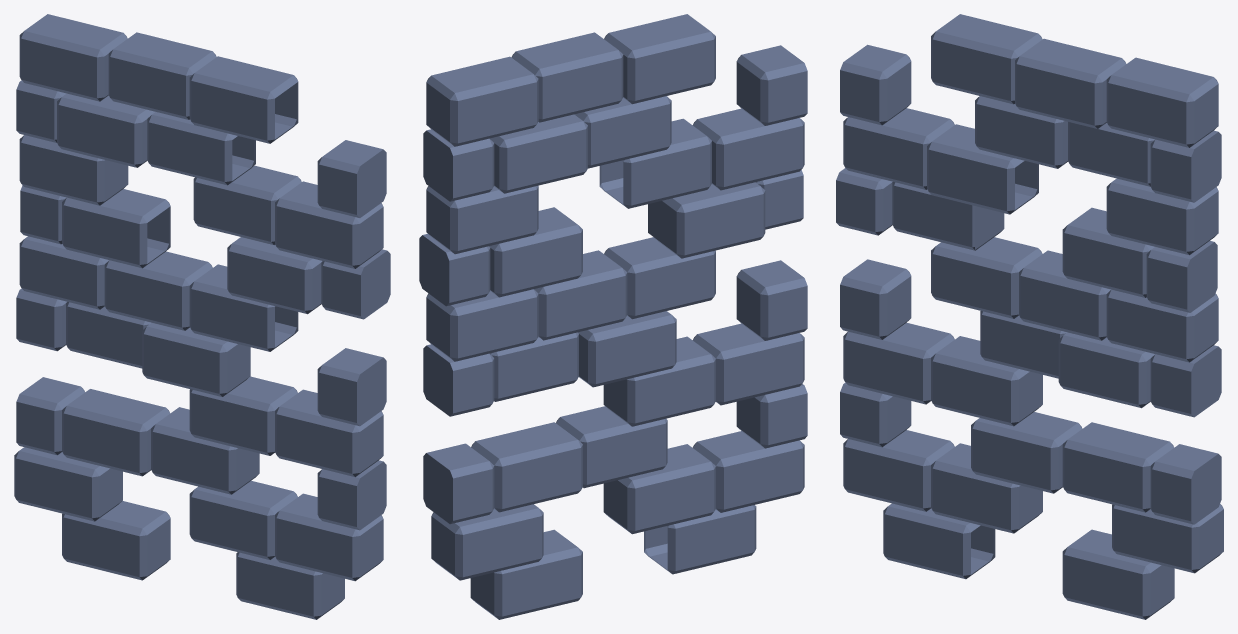
The model's file is n2_brick_wall_lev2.glb.
3 renders of one model, left to right at view 1: azimuth 90°, elevation 25°; view 2: azimuth 150°, elevation 25°; view 3: azimuth 270°, elevation 25°, orthographic. The views are drawn at different scales.
Parts seen in each view (by area): view 1: n2_brick_wall_lev2; view 2: n2_brick_wall_lev2; view 3: n2_brick_wall_lev2.
Boxes of the visible parts, x1,y1,x2,y2 form: n2_brick_wall_lev2: [14, 14, 390, 619]; n2_brick_wall_lev2: [419, 14, 807, 619]; n2_brick_wall_lev2: [836, 14, 1223, 619].
Size of the model in its own units: 1.37 by 3.06 by 2.01.
